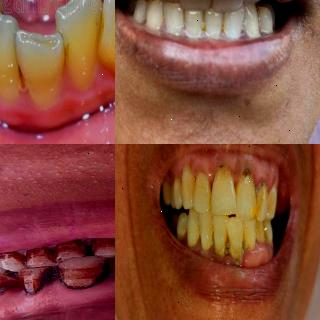calculus: (221, 236, 236, 274), (256, 172, 268, 202), (237, 158, 250, 184), (208, 230, 220, 252), (240, 236, 249, 258)
cavities: (215, 156, 227, 178)
maligned: (53, 0, 115, 92), (14, 28, 70, 109), (0, 4, 28, 106), (88, 0, 115, 90), (0, 0, 18, 86), (163, 0, 184, 38), (146, 0, 164, 34), (183, 6, 199, 36), (178, 0, 212, 8)
plaque: (197, 13, 209, 37), (218, 16, 229, 38)
stains: (59, 263, 106, 293), (52, 236, 86, 264), (13, 50, 31, 100), (19, 268, 56, 292), (55, 32, 77, 71), (87, 16, 109, 52), (26, 244, 56, 268), (87, 234, 115, 258), (0, 250, 26, 268), (250, 193, 264, 221), (0, 278, 16, 302), (255, 220, 270, 245)
